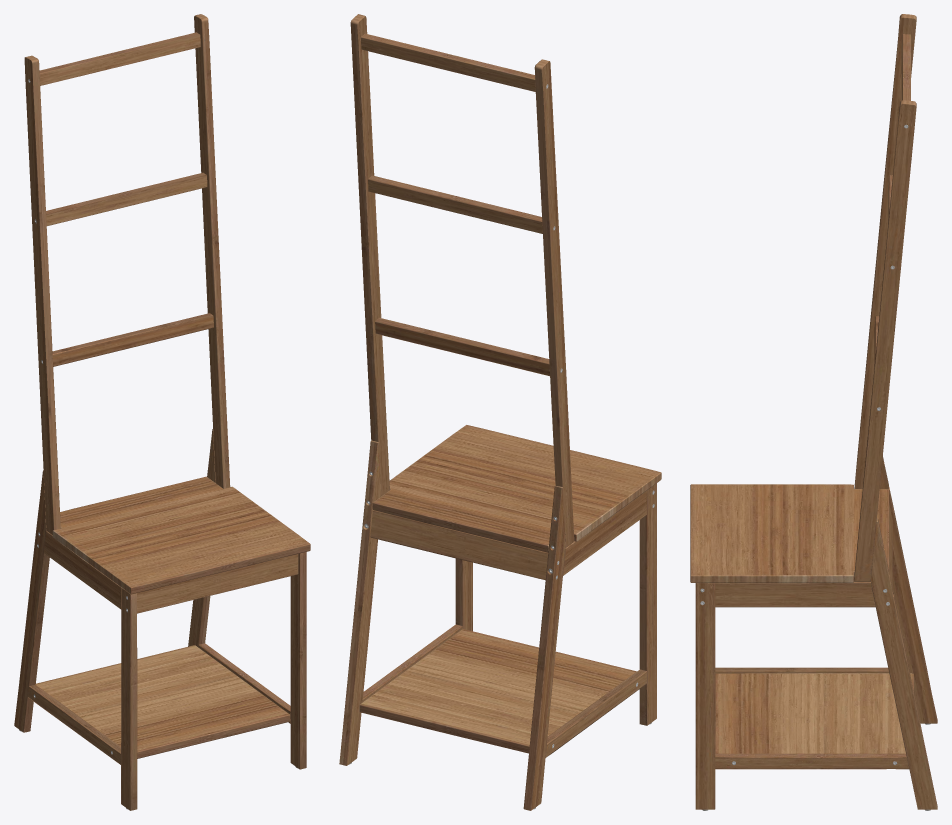
File: R_GRUND_90253074.glb
3 views of the same model, side by side, from view 1: azimuth 30°, elevation 25°; view 2: azimuth 150°, elevation 25°; view 3: azimuth 270°, elevation 25° (orthographic). The views are drawn at different scales.
Parts seen in each view (by area): view 1: model; view 2: model; view 3: model.
Boxes of the visible parts, <box> form: model: <box>14,14,310,810</box>; model: <box>339,14,661,810</box>; model: <box>690,14,937,810</box>.
Size of the model in its own units: 0.388 by 1.4 by 0.4427.
1 material, 1 textured.
